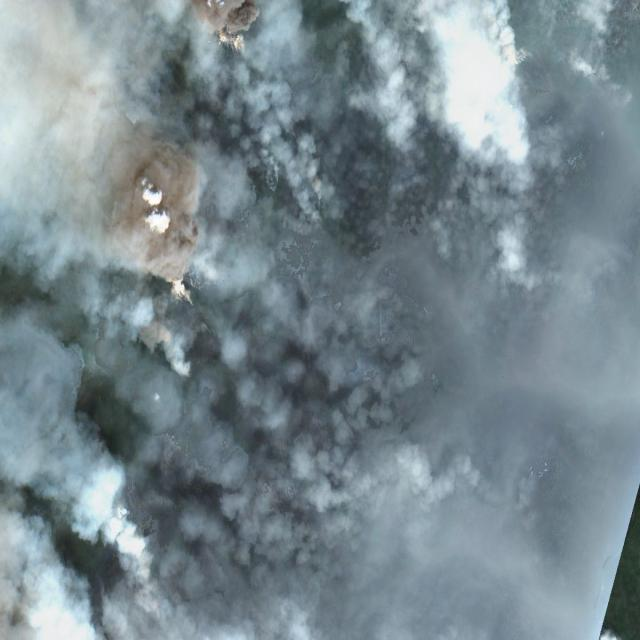fire: (128, 1, 275, 420)
